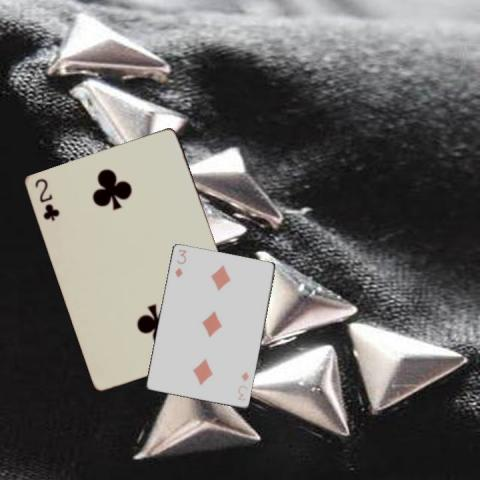2c: (32, 175, 61, 223)
3d: (235, 369, 251, 402), (172, 247, 188, 279)
